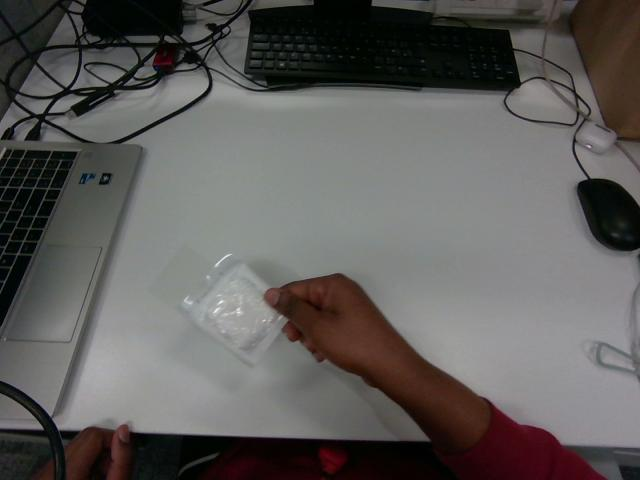gauze: (181, 255, 285, 364)
